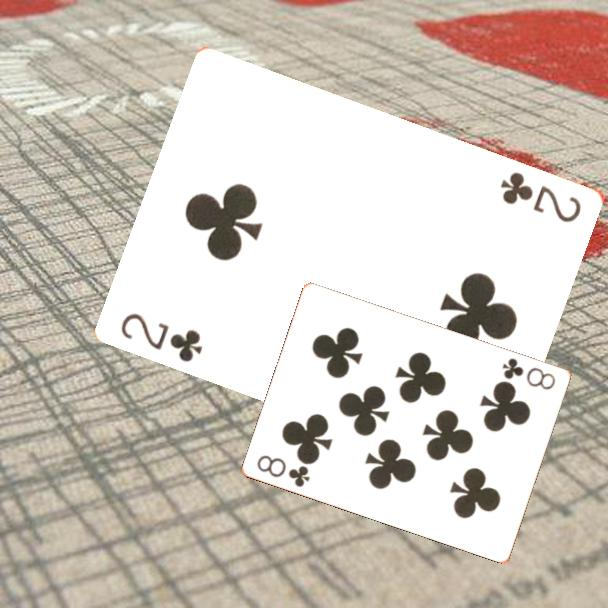c02: (497, 168, 585, 225), (118, 309, 207, 365)
c08: (499, 354, 559, 393), (254, 451, 313, 490)
